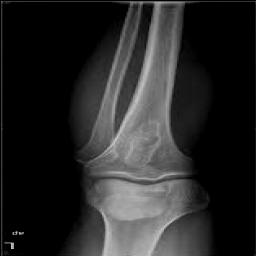cancer: (122, 115, 160, 163)
